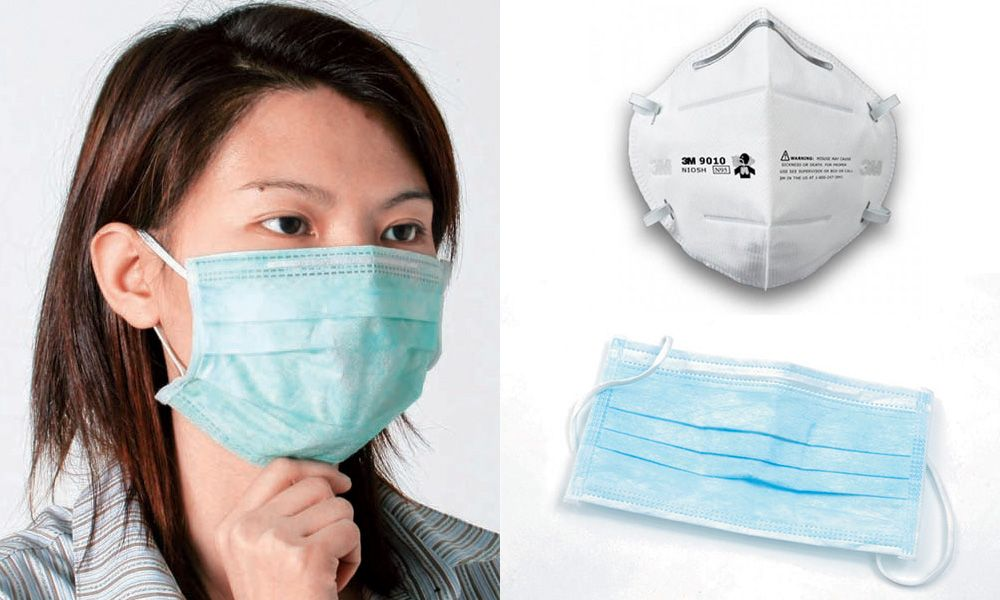Mask: (181, 101, 451, 468)
